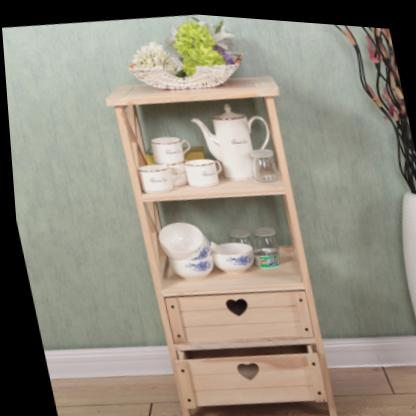Cupboard: (104, 71, 331, 416)
